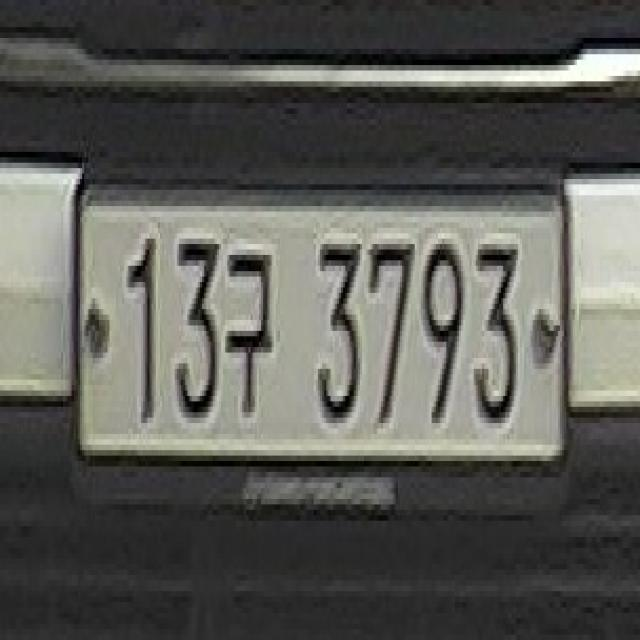1: (126, 205, 163, 440)
3: (474, 226, 530, 438), (174, 227, 222, 429), (316, 225, 362, 430)
7: (366, 238, 419, 430)
9: (422, 227, 469, 437)
gu: (223, 246, 276, 422)
license_plate: (62, 173, 572, 500)
